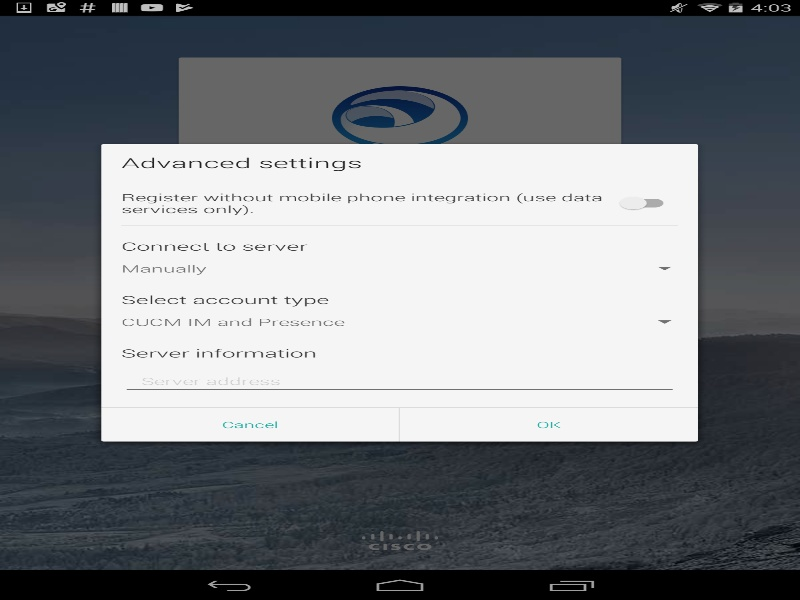Button: (400, 407, 698, 441), (101, 407, 398, 441)
Input: (121, 368, 678, 394)
